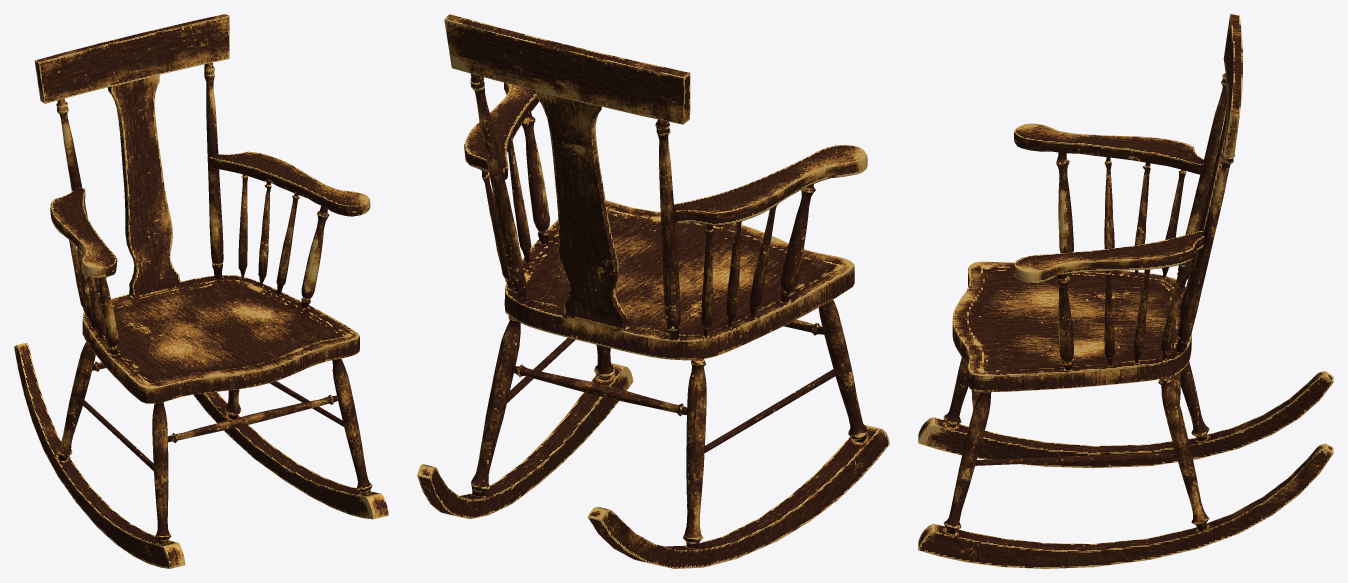
File: Rockingchair_01.glb
3 views of the same model, side by side, from view 1: azimuth 30°, elevation 25°; view 2: azimuth 150°, elevation 25°; view 3: azimuth 270°, elevation 25° (orthographic). The views are drawn at different scales.
Visible parts, largest first — view 1: body; view 2: body; view 3: body.
Boxes of the visible parts, x1,y1,x2,y2 form: body: (14,14,388,568); body: (417,14,889,568); body: (918,14,1333,568).
Bounding box in the file's own units: 0.7079 × 0.9949 × 0.8336.
Materials: 1 (1 with a texture image).
